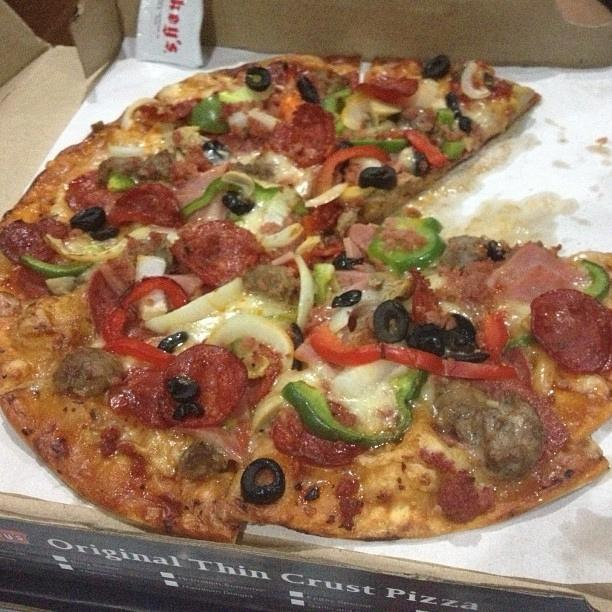bell pepper: (280, 366, 431, 449), (310, 330, 517, 380), (322, 86, 408, 153), (368, 216, 446, 274), (182, 177, 280, 222), (312, 146, 392, 200), (374, 130, 449, 168), (103, 338, 176, 369), (18, 254, 94, 279), (474, 311, 508, 362), (186, 96, 230, 134), (582, 259, 610, 303), (108, 173, 138, 189), (442, 141, 466, 160), (435, 106, 454, 124)
onion: (135, 256, 246, 336), (206, 315, 294, 374), (44, 227, 146, 262), (272, 251, 315, 334), (330, 358, 400, 400), (329, 289, 381, 333), (519, 344, 557, 398), (264, 184, 302, 228), (119, 97, 162, 130), (261, 223, 304, 248), (304, 184, 348, 206), (246, 108, 282, 134), (342, 99, 371, 130), (106, 143, 144, 157), (359, 62, 373, 83)
